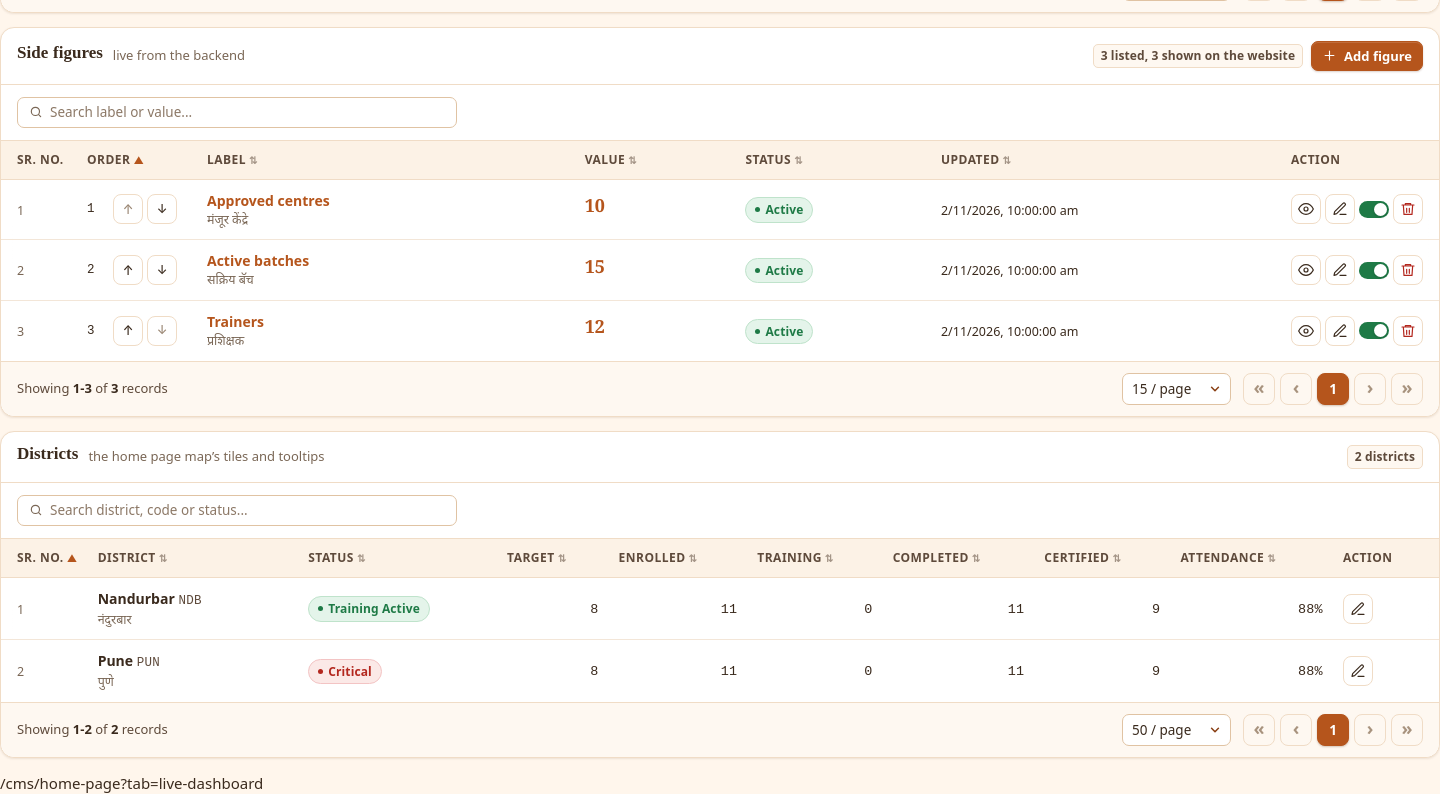
a district’s Edit dialog › sends only the changed figures, by the district’s code, with the version it was opened at
(page scrolled)
expect the text "Pune" is shown: met, box [98,651,133,670]
Click the button named "Edit Pune" at (1358, 671), box [1343,656,1373,686]
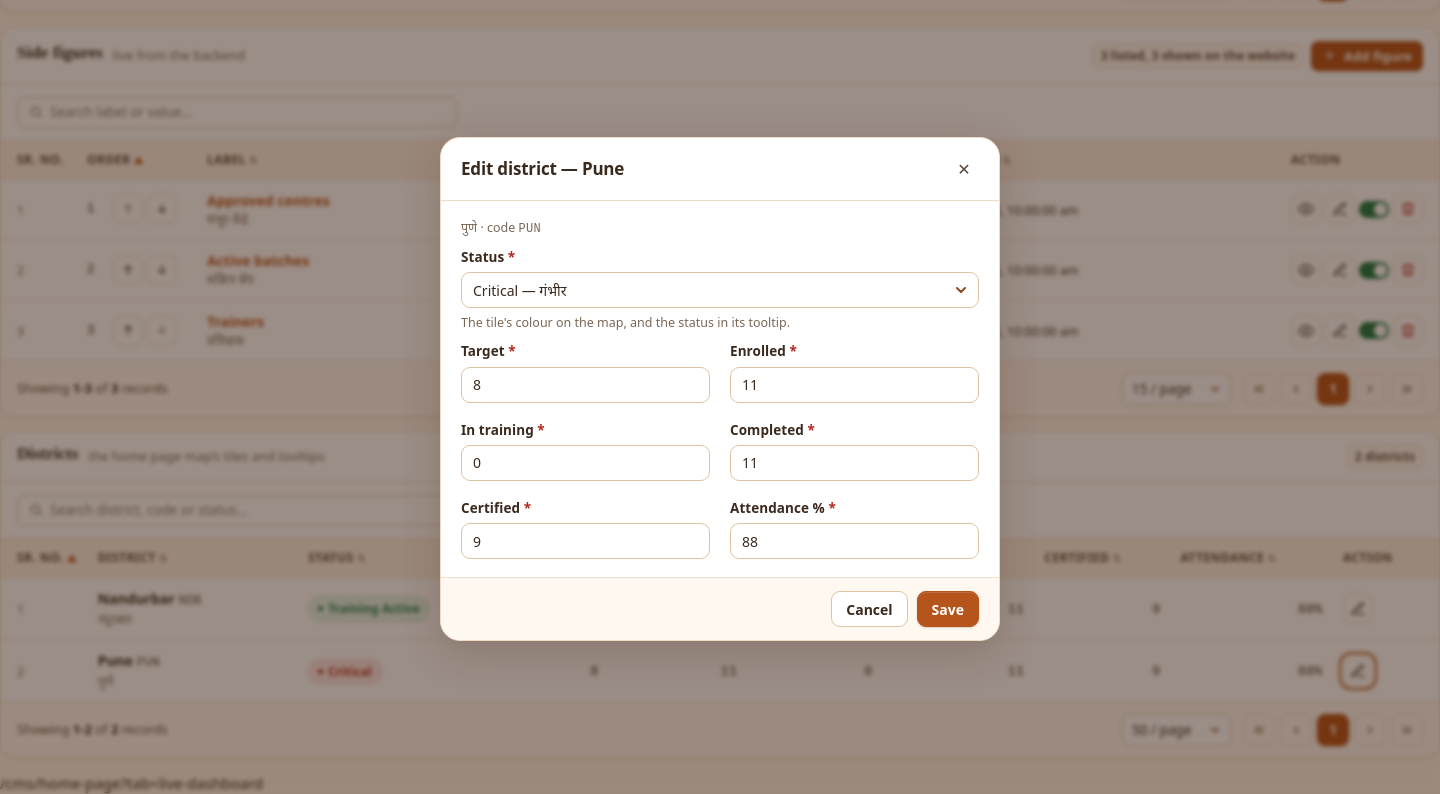
expect the dialog shows "Edit district — Pune": met, box [461,157,624,180]
expect the dropdown labelled "Status *" shows "Critical — गंभीर": met
expect the number field labelled "Enrolled *" holds "11": met, box [730,367,979,403]
Select "Training Active — प्रशिक्षण सुरू" in the dropdown labelled "Status *" at (720, 290), box [461,272,979,308]
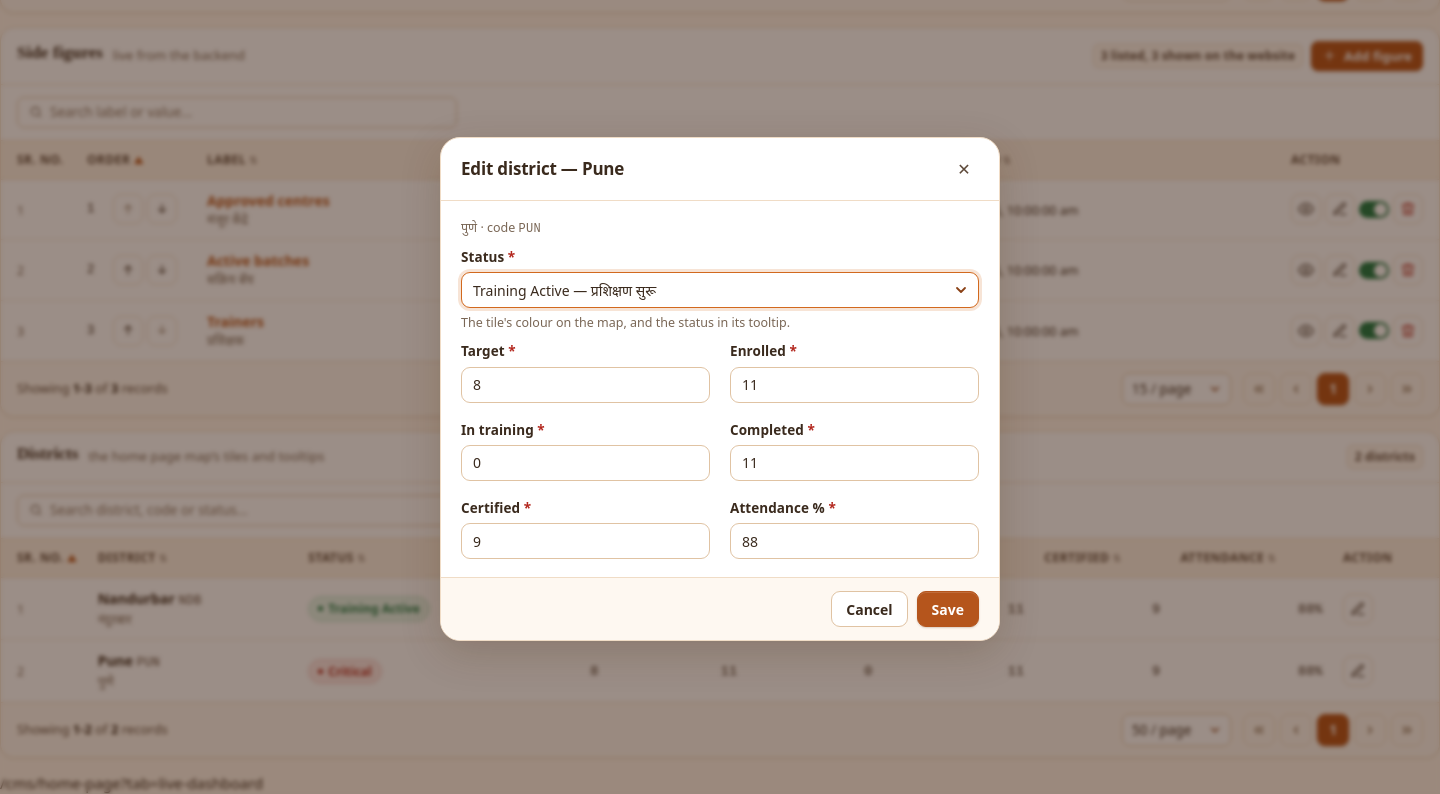
Replace the text in the number field labelled "Enrolled *" with "40" at (854, 385), box [730,367,979,403]
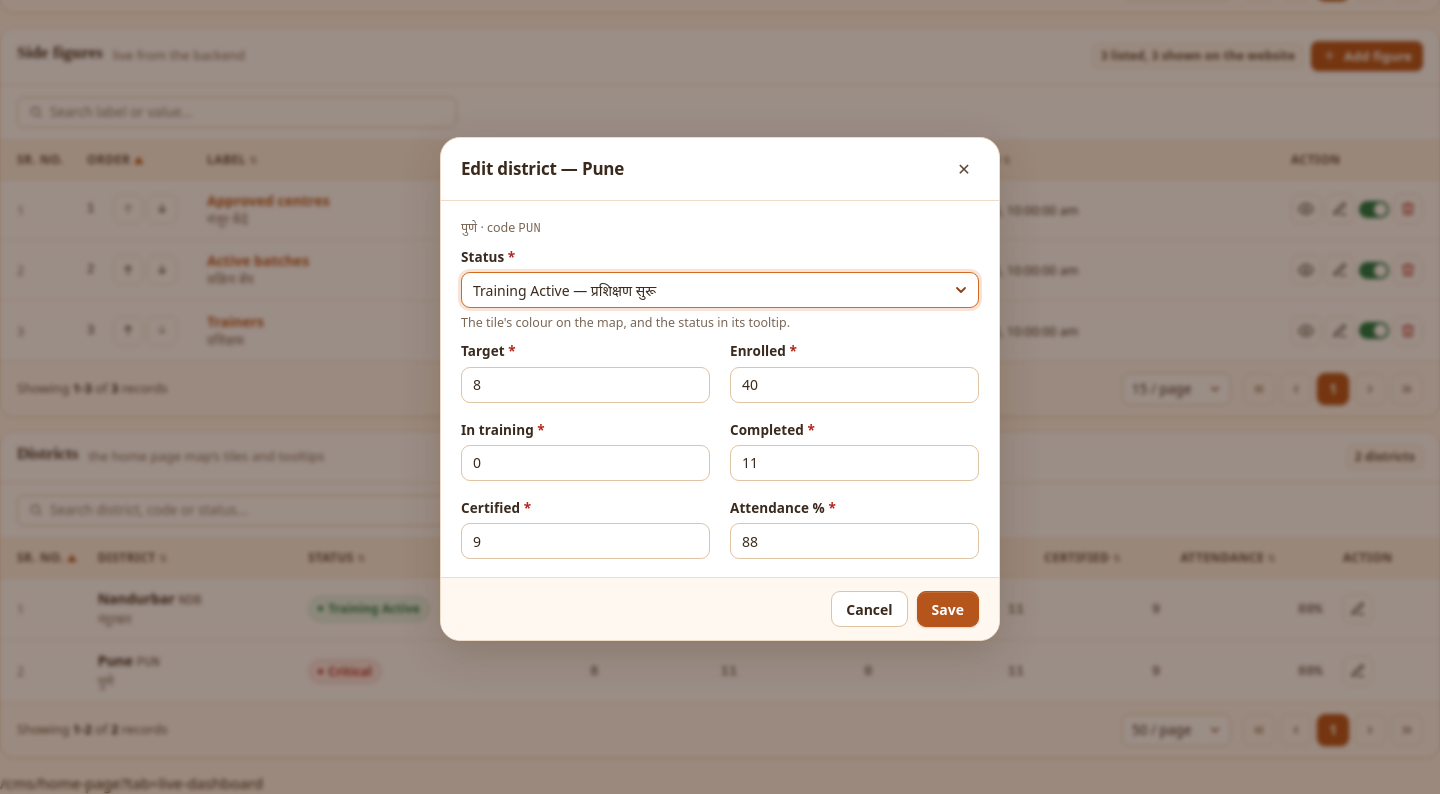
Click the button "Save" at (948, 609), box [917,591,979,627]
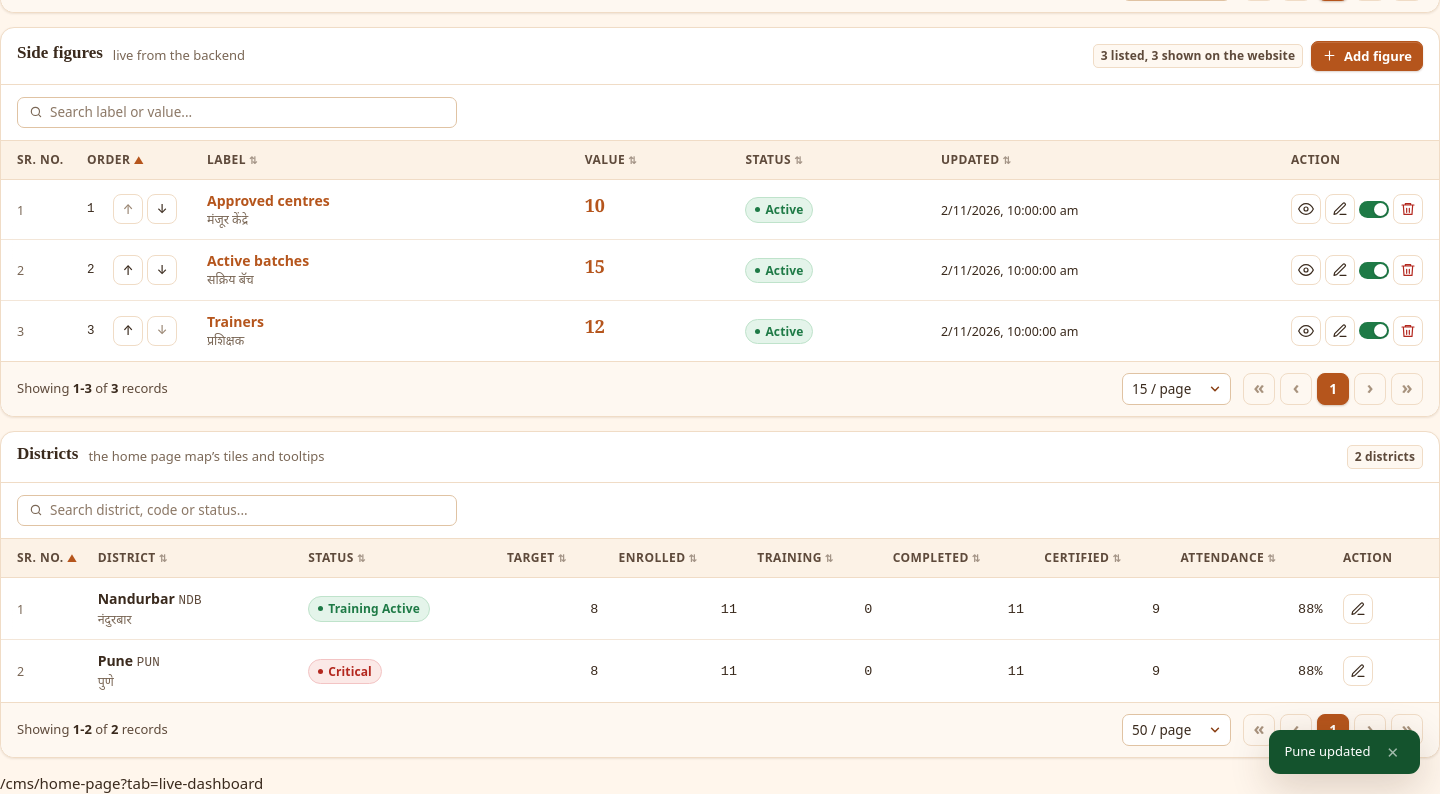
expect the element with id "toast-root" shows "Pune updated": met, box [1284,742,1370,760]
expect the dialog is gone: met
